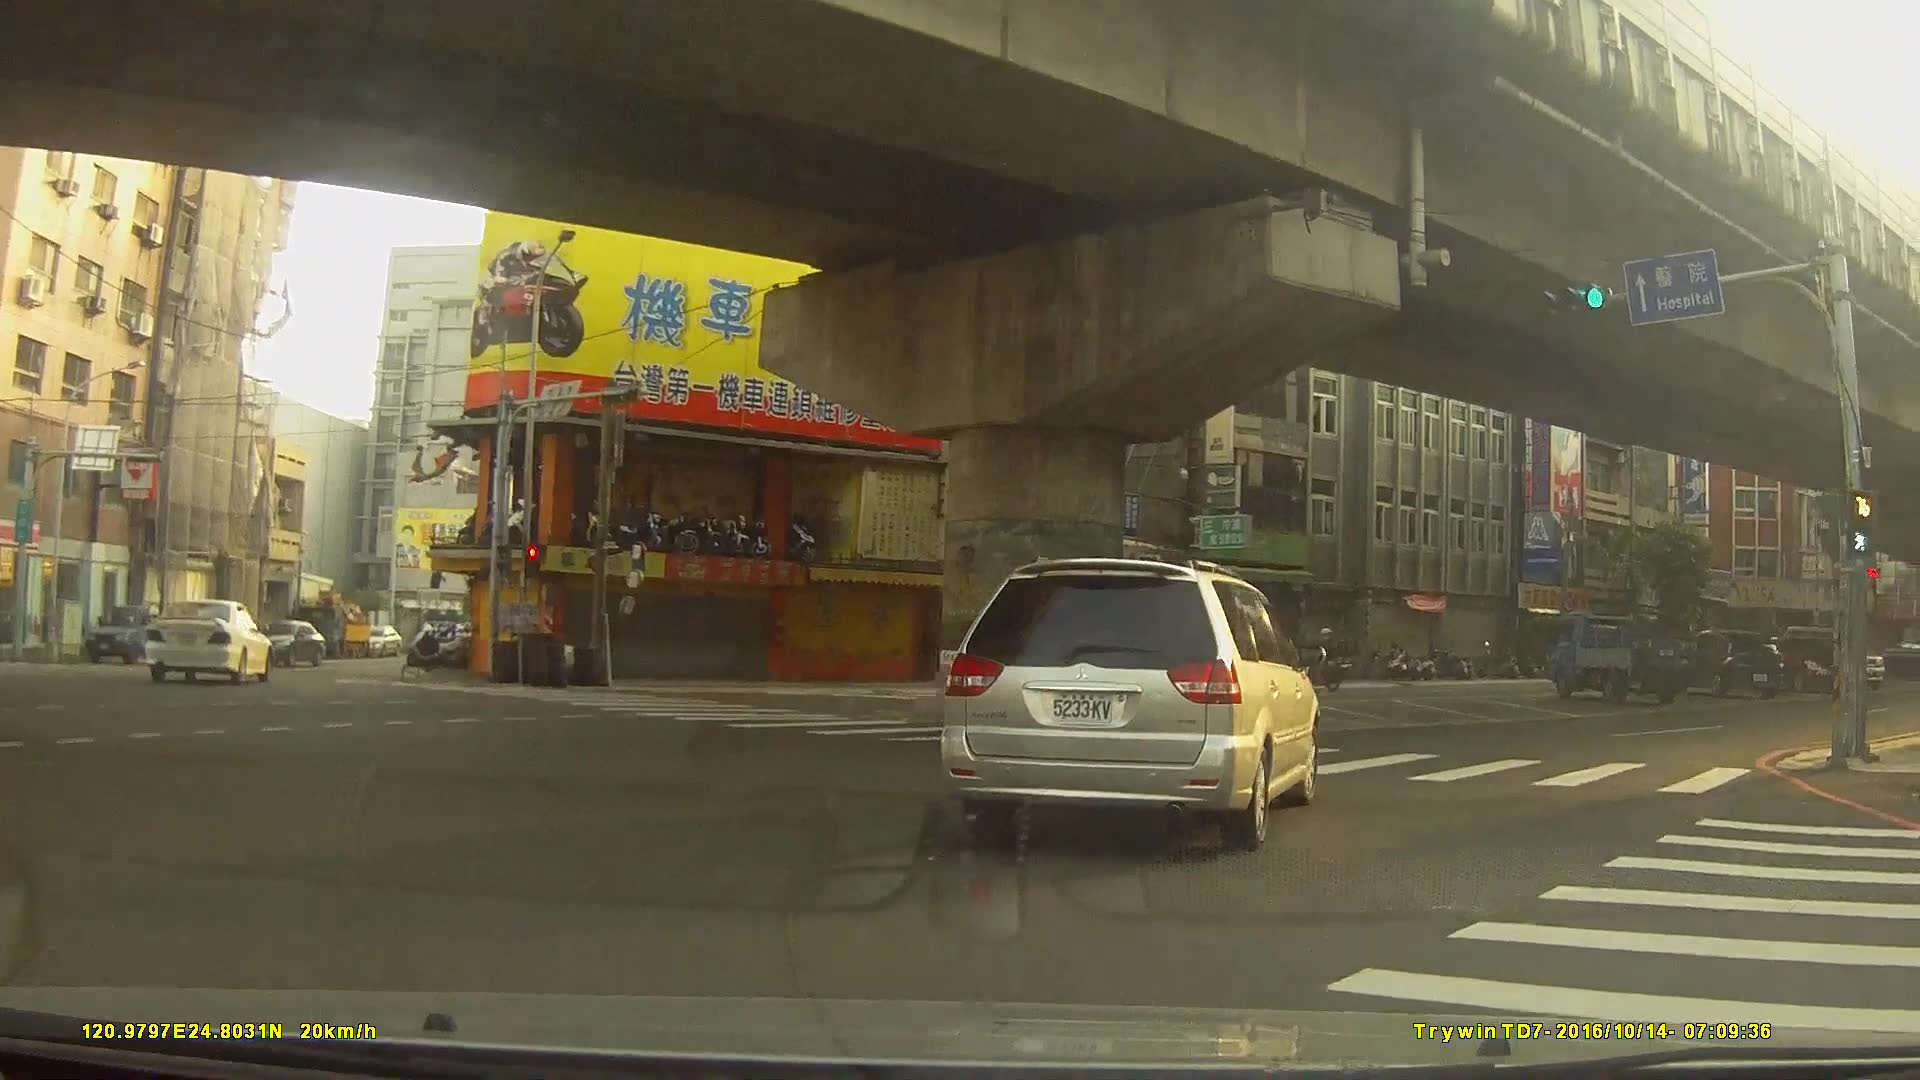rider: (1290, 629, 1350, 694)
vehicle: (938, 556, 1318, 849), (1544, 609, 1701, 701), (144, 596, 273, 683), (1662, 626, 1786, 695), (85, 599, 176, 660), (1760, 633, 1852, 693), (250, 618, 324, 663), (359, 623, 400, 654)
